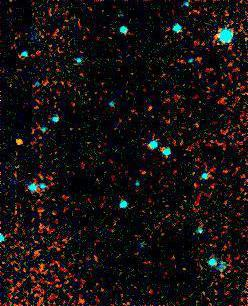star: (3, 134, 33, 164)
